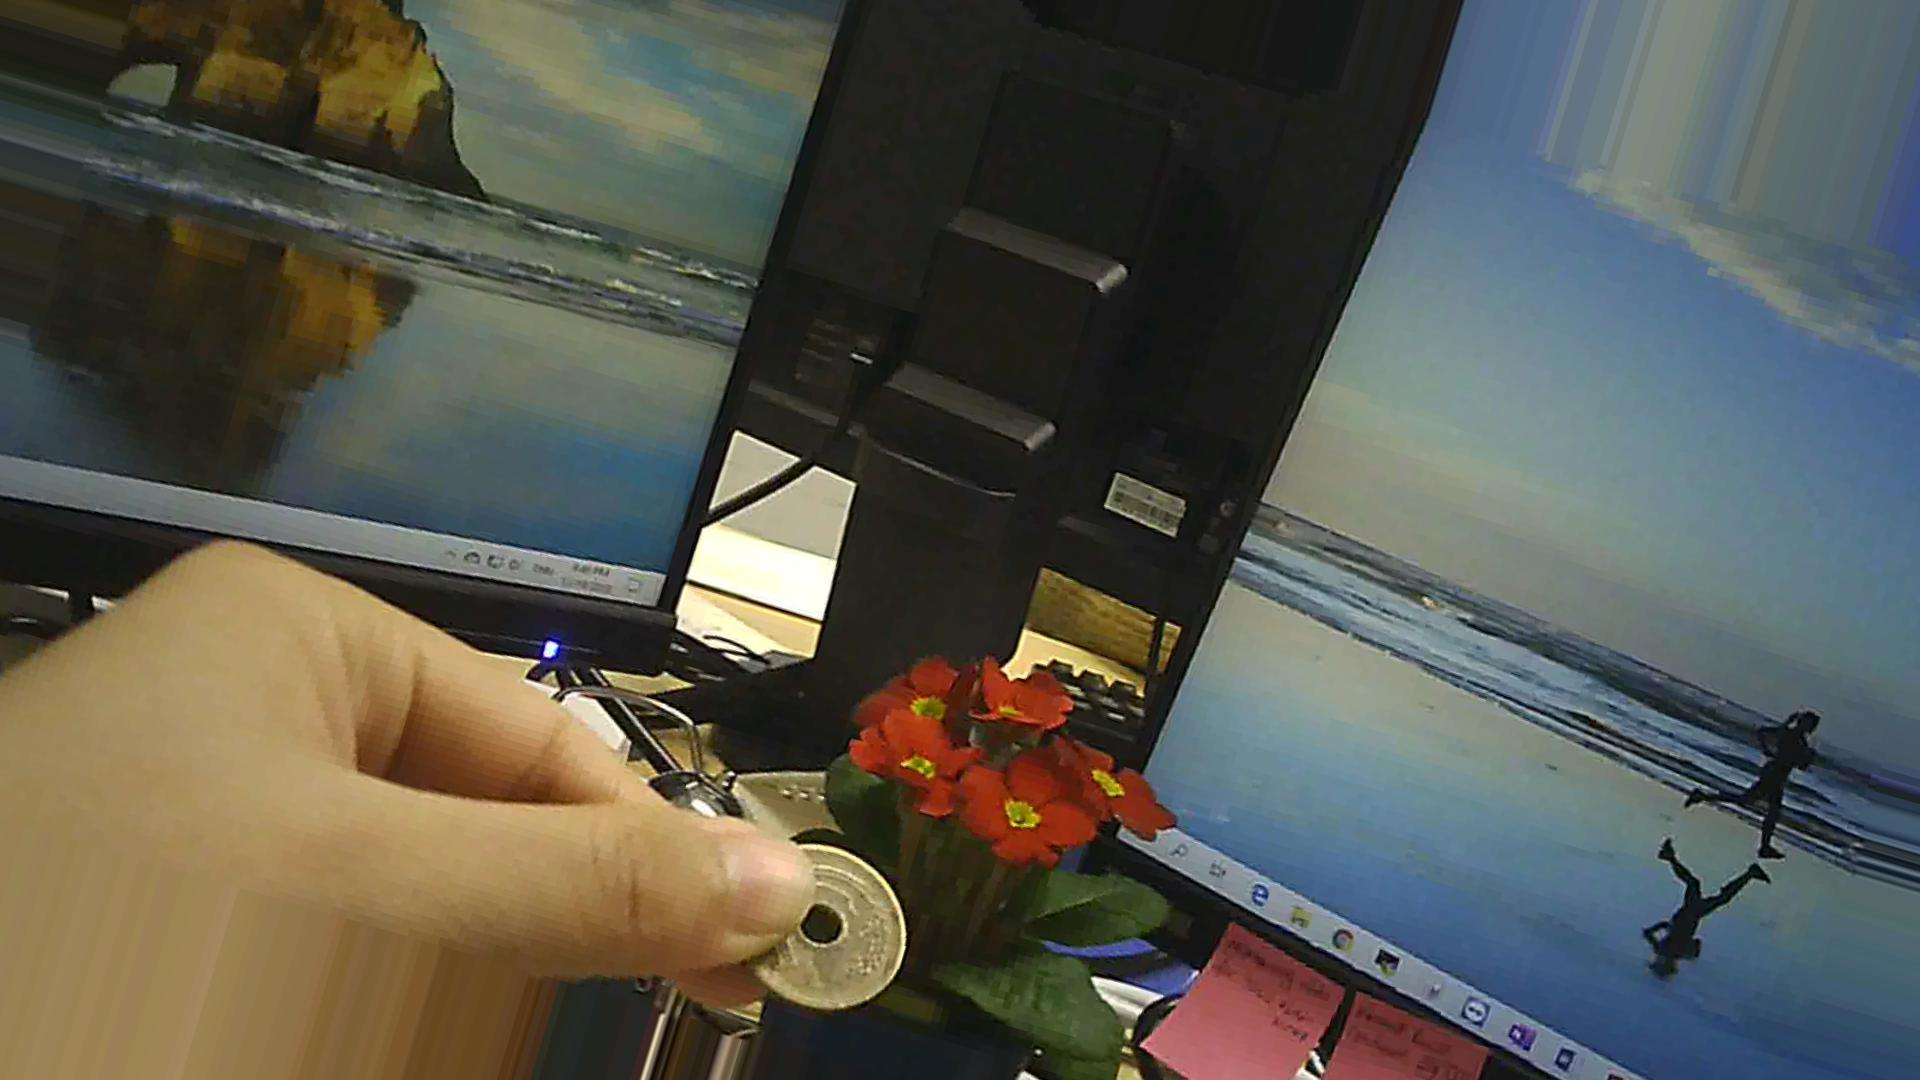5 Yen: (736, 847, 902, 1002)
